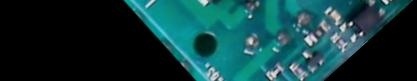chip-capacitor: (320, 2, 345, 29)
chip-resistor: (299, 17, 333, 50), (326, 30, 350, 55), (284, 58, 309, 81), (261, 59, 286, 81)
ic: (334, 0, 388, 46)
transistor: (294, 43, 327, 75)
